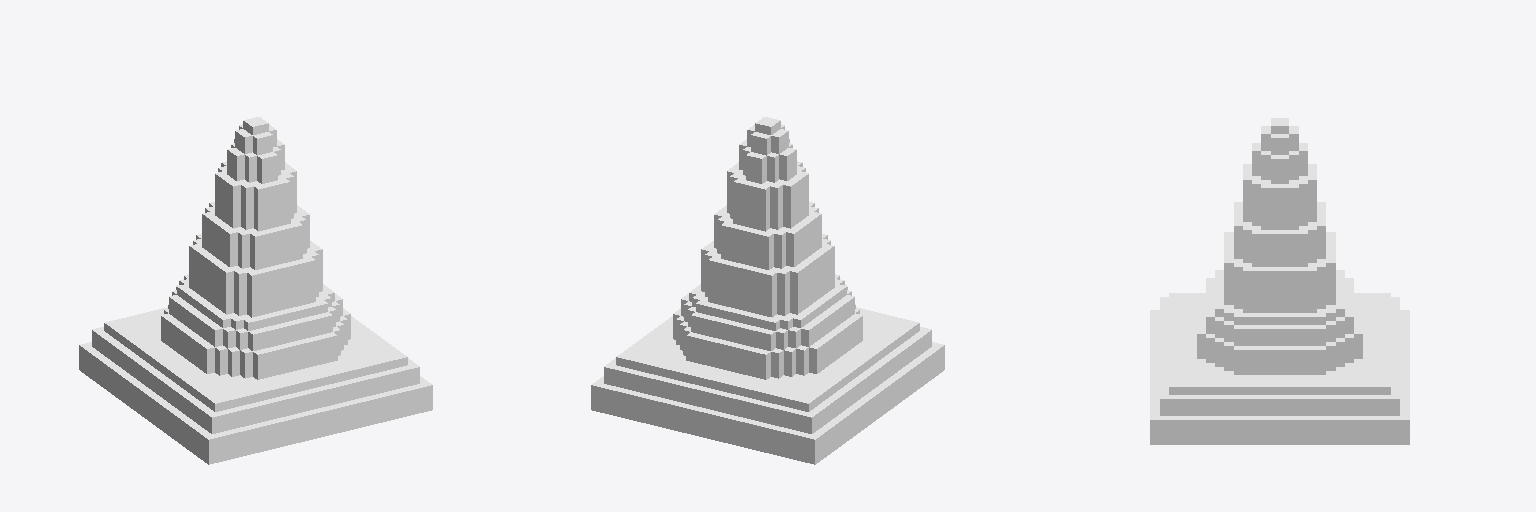
Rendered from traffic_cone.obj.
3 views of the same model, side by side, from view 1: azimuth 30°, elevation 25°; view 2: azimuth 150°, elevation 25°; view 3: azimuth 270°, elevation 25° (orthographic).
Visible parts, largest first — view 1: object 1; view 2: object 1; view 3: object 1.
Part boxes in pixels (bbox=[...]): object 1: bbox=[79, 117, 432, 464]; object 1: bbox=[591, 117, 944, 464]; object 1: bbox=[1150, 118, 1409, 444].
Size of the model in its own units: 2.8 by 3.2 by 2.8.